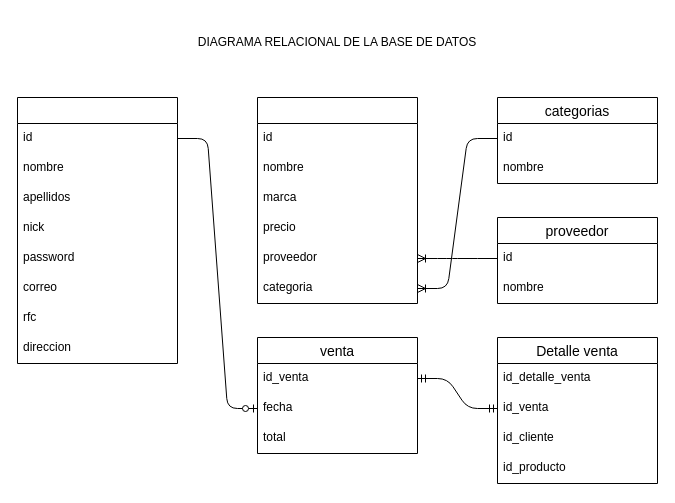
This 675x503 diagram has some shape labels left out. Each missing label, with the box of its shape:
cliente: (16, 96, 178, 364)
productos: (256, 96, 418, 304)
